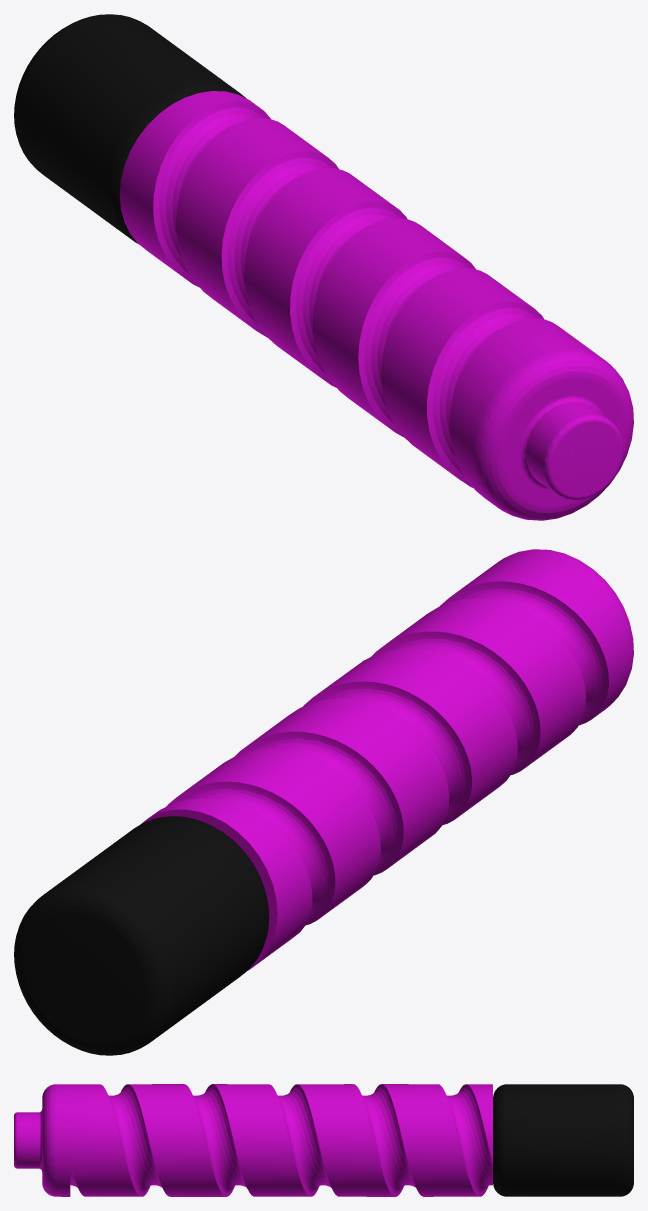
The model's file is toner-3.dae.
The picture shows the model from 3 angles, top to bottom: view 1: azimuth 30°, elevation 25°; view 2: azimuth 150°, elevation 25°; view 3: azimuth 270°, elevation 25°; orthographic projection. The views are drawn at different scales.
Visible parts, largest first — view 1: pivot27, pivot28; view 2: pivot27, pivot28; view 3: pivot27, pivot28.
Boxes of the visible parts, bbox=[...] form: pivot27: bbox=[119, 91, 633, 520]; pivot28: bbox=[14, 14, 246, 243]; pivot27: bbox=[140, 549, 633, 970]; pivot28: bbox=[14, 816, 269, 1055]; pivot27: bbox=[14, 1084, 492, 1196]; pivot28: bbox=[493, 1084, 633, 1196].
Bounding box in the file's own units: 11.34 × 11.34 × 62.36.
